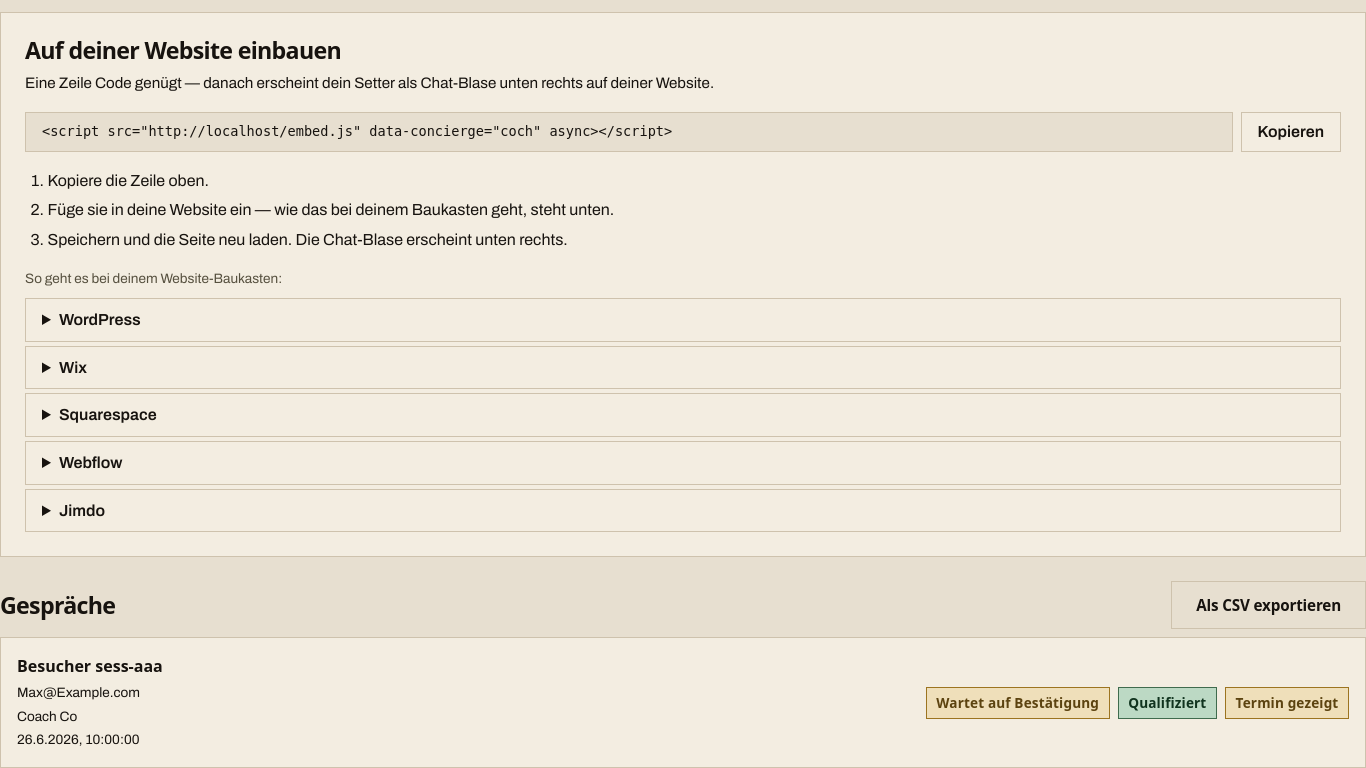
Test: ConciergeChatsPage › never shows a bare grant as permission to send
(page scrolled)
Expected: the text "Wartet auf Bestätigung" is shown, x1=926 y1=687 x2=1110 y2=719
What coordinates should you click on to do the following:
click the button "sess-aaa"
I would click on:
 (683, 703)
Its box is x1=0 y1=637 x2=1365 y2=767.
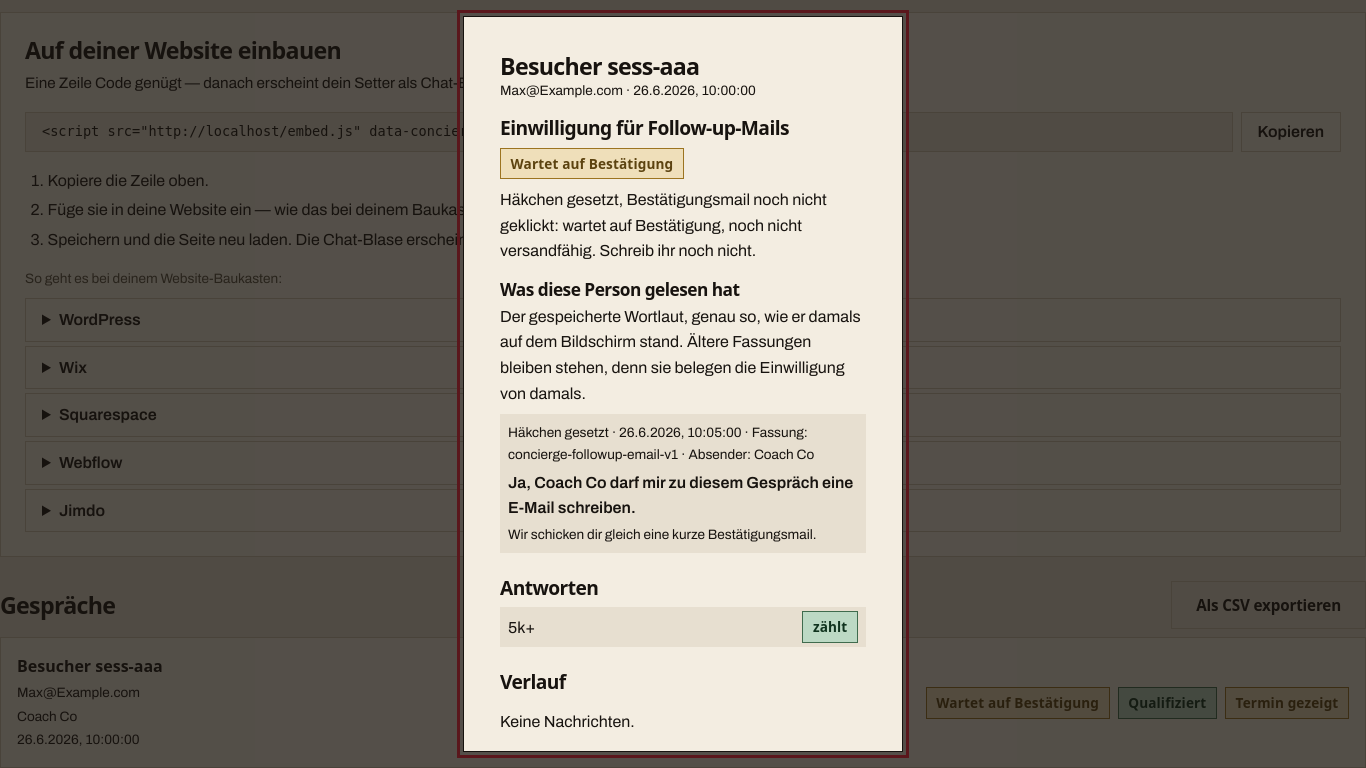
Result: the text "Schreib ihr noch nicht" is shown at x1=500 y1=191 x2=827 y2=260
